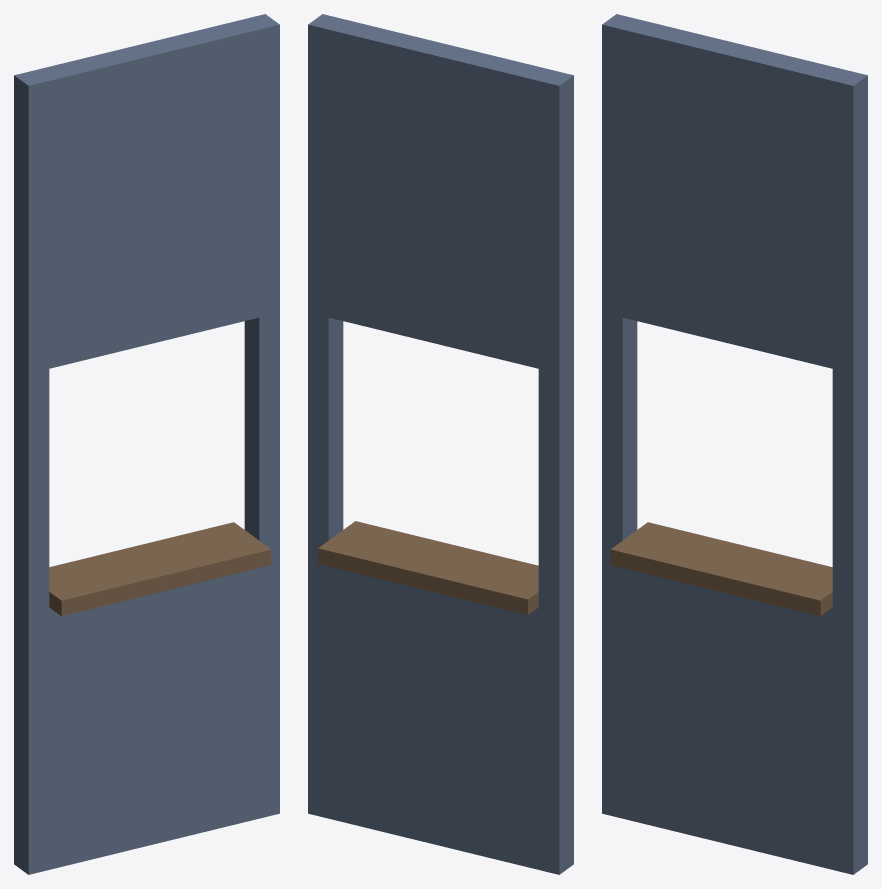
The model's file is Mesh_Wall_E2.fbx.
3 renders of one model, left to right at view 1: azimuth 30°, elevation 25°; view 2: azimuth 150°, elevation 25°; view 3: azimuth 330°, elevation 25°, orthographic.
Parts seen in each view (by area): view 1: Mesh_Wall_E2; view 2: Mesh_Wall_E2; view 3: Mesh_Wall_E2.
Part boxes in pixels (bbox=[...]): Mesh_Wall_E2: bbox=[14, 14, 279, 874]; Mesh_Wall_E2: bbox=[308, 14, 573, 874]; Mesh_Wall_E2: bbox=[602, 14, 867, 874].
Bounding box in the file's own units: 1 × 3 × 0.2574.
